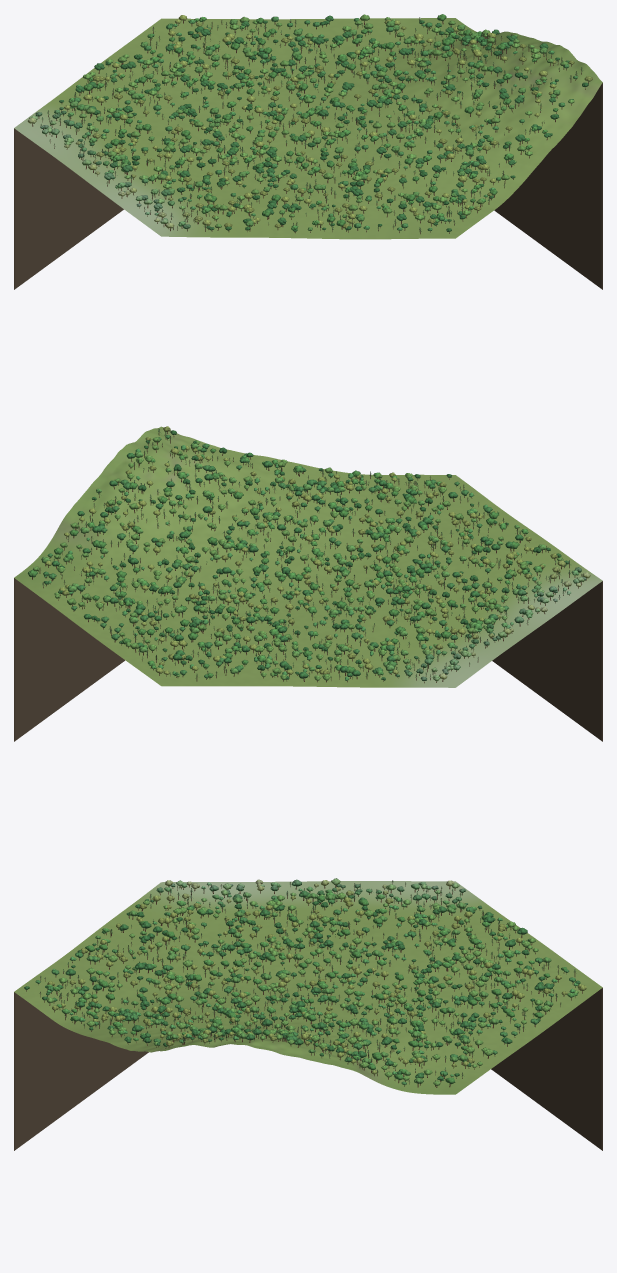
The picture shows the model from 3 angles, top to bottom: view 1: azimuth 30°, elevation 25°; view 2: azimuth 150°, elevation 25°; view 3: azimuth 270°, elevation 25°; orthographic projection.
Parts seen in each view (by area): view 1: terrain, broadleaf_canopy, hex_side_cut, trunks, conifer_canopy; view 2: terrain, broadleaf_canopy, hex_side_cut, trunks, conifer_canopy; view 3: terrain, broadleaf_canopy, hex_side_cut, trunks, conifer_canopy.
Part boxes in pixels (x1,y1,x2,y2): terrain: (14, 18, 602, 239); broadleaf_canopy: (27, 14, 592, 231); hex_side_cut: (14, 83, 602, 289); trunks: (32, 17, 588, 234); conifer_canopy: (40, 17, 582, 231); terrain: (14, 426, 602, 687); broadleaf_canopy: (27, 426, 590, 681); hex_side_cut: (14, 578, 602, 741); trunks: (32, 431, 586, 683); conifer_canopy: (38, 429, 582, 678); terrain: (14, 881, 602, 1094); broadleaf_canopy: (24, 878, 586, 1085); hex_side_cut: (14, 988, 602, 1150); trunks: (26, 880, 582, 1087); conifer_canopy: (39, 880, 576, 1081).
Size of the model in its own units: 4330 by 2036 by 5000.
Materials: 6 (1 with a texture image).
